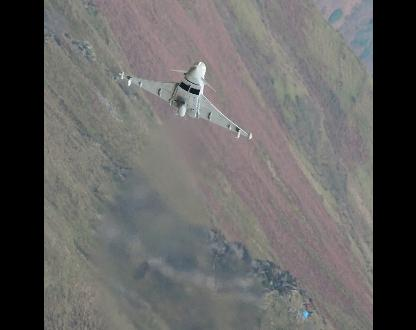E2: (118, 61, 252, 138)
